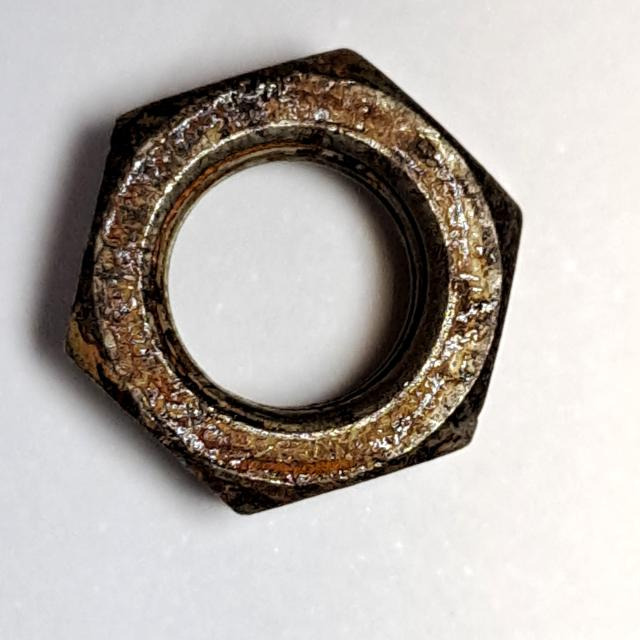Rust: (49, 36, 535, 529)
